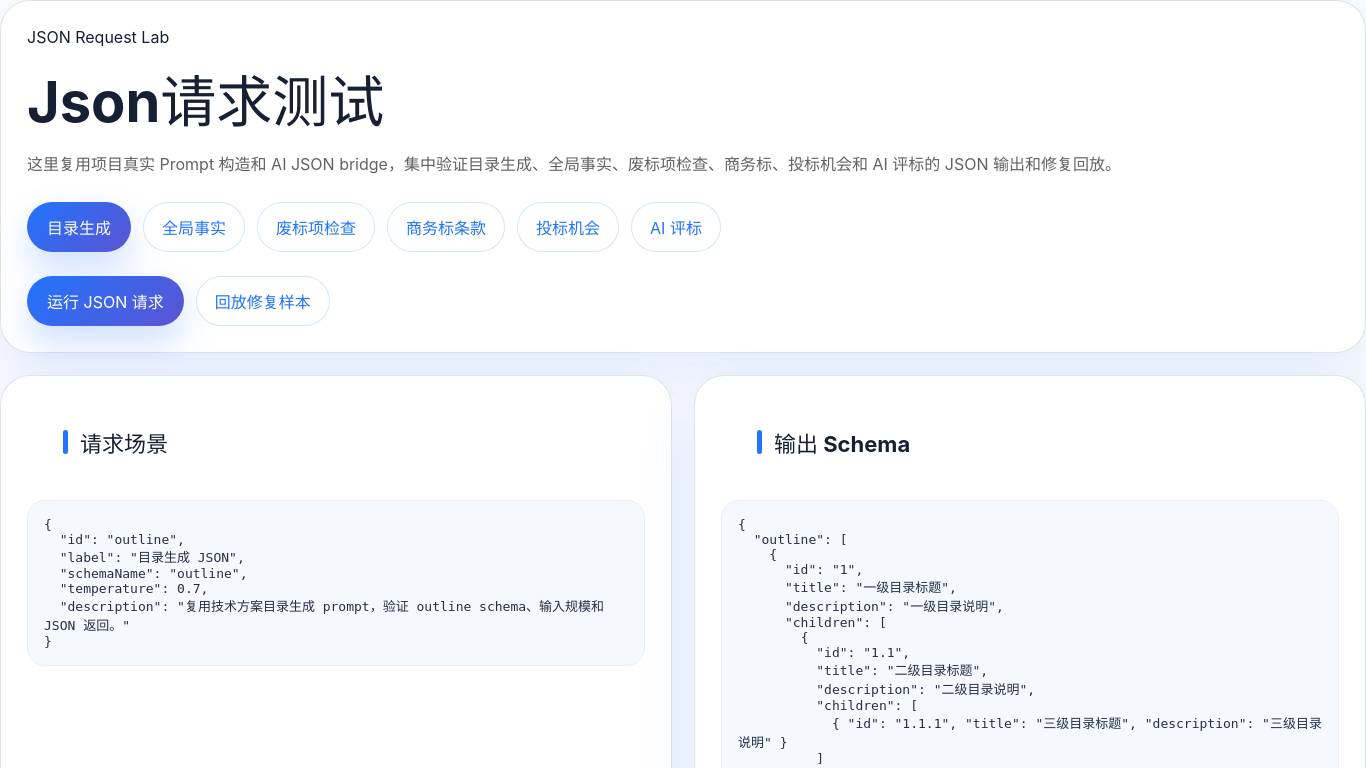
Test: DeveloperTestPage › switches to bid opportunity and AI evaluation JSON schemas
Click the tab "投标机会". click: (568, 227)
box: [517,202,619,252]
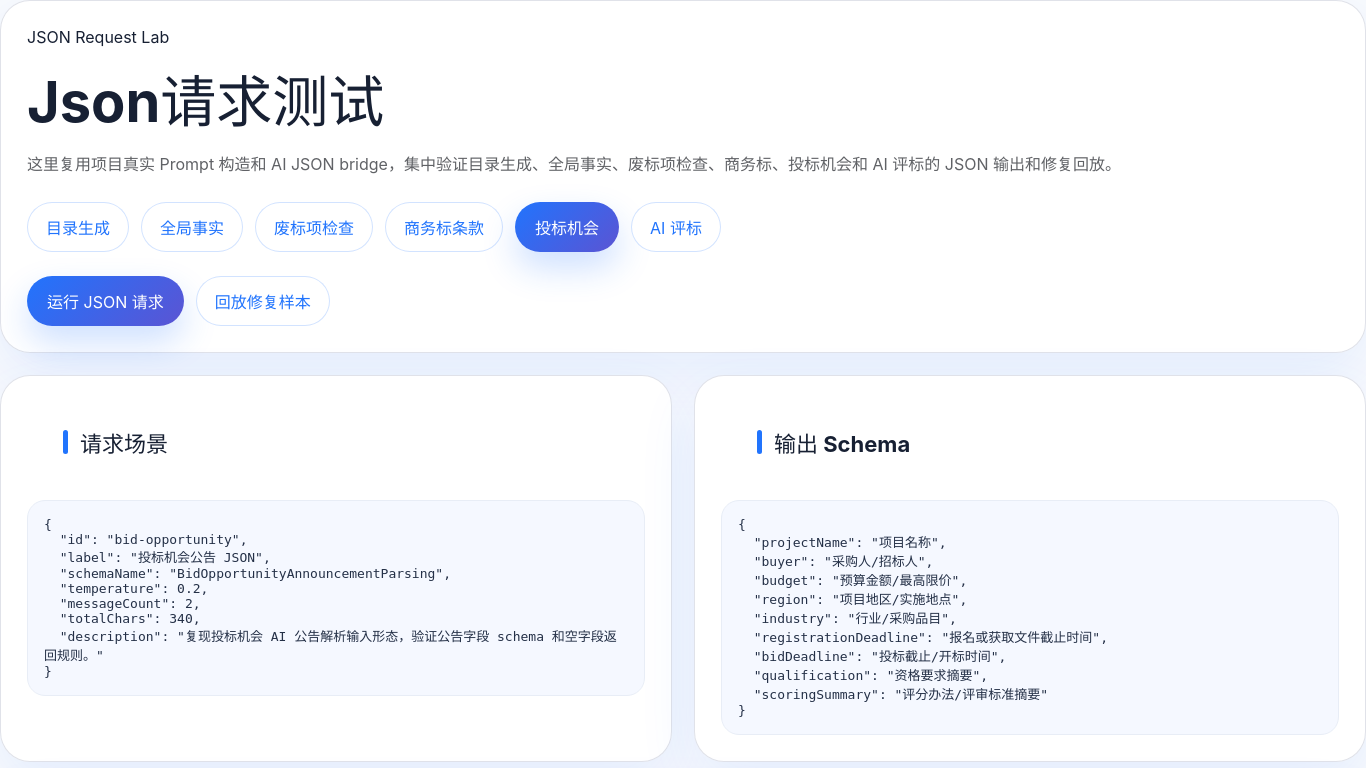
Check: the text "\"schemaName\": \"BidOpportunityAnnouncementParsing\"" is shown, box [44,517,617,679]
Click the tab "AI 评标". click: (676, 227)
box: [631,202,721,252]
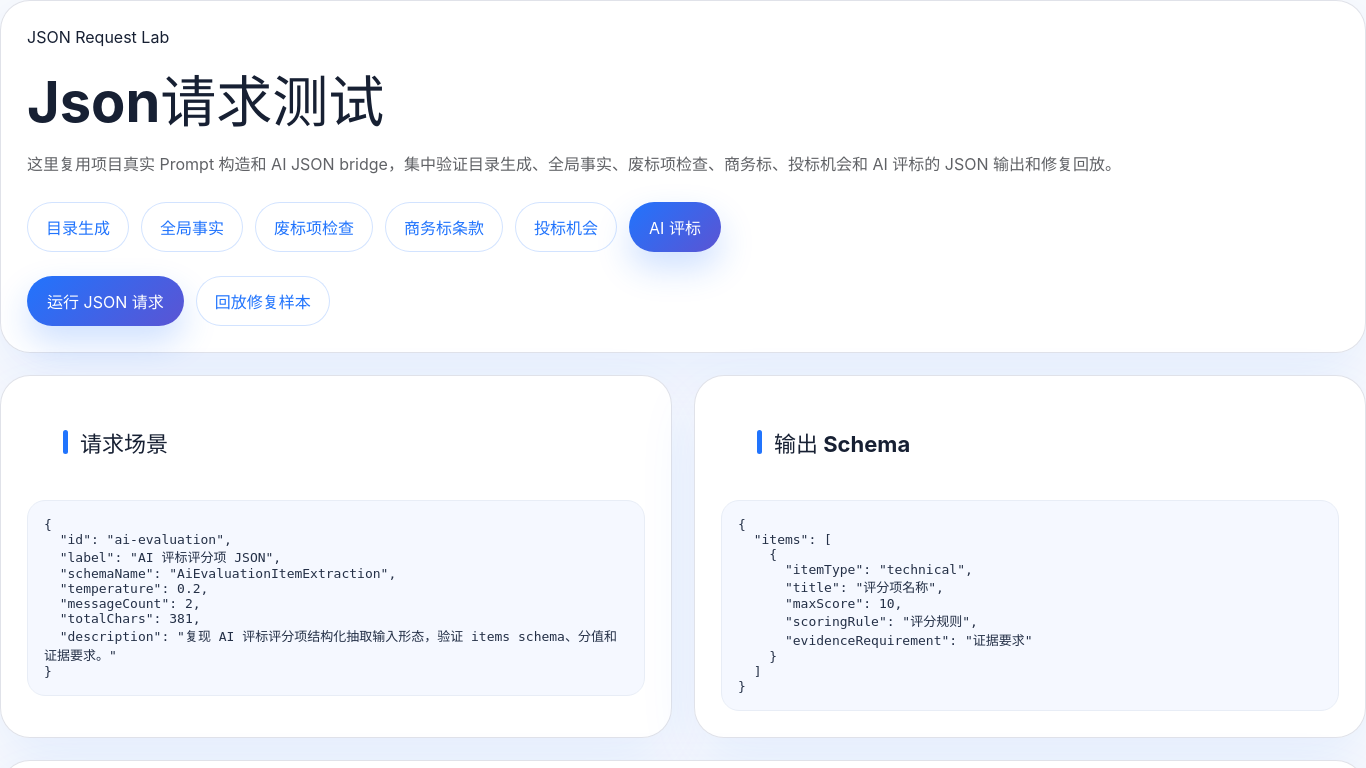
Check: the text "\"schemaName\": \"AiEvaluationItemExtraction\"" is shown, box [44,517,617,679]
Check: the text "\"items\"" is shown, box [738,517,1033,694]
